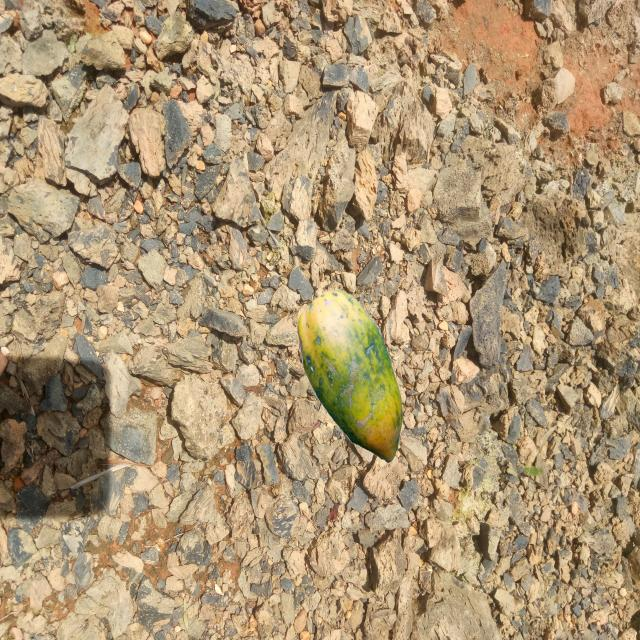Pepaya rippen: (295, 274, 408, 470)
